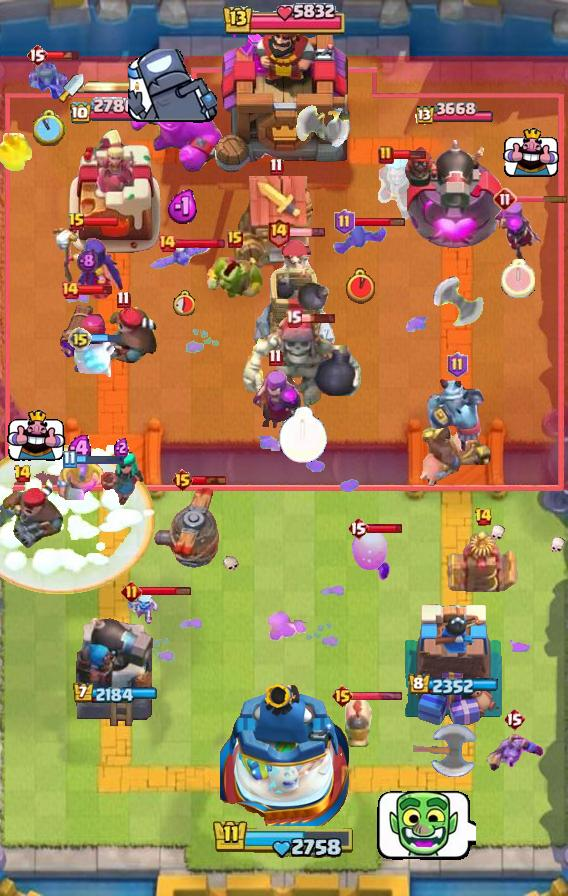axe: (413, 723, 479, 779), (427, 276, 485, 338), (295, 92, 351, 150)
bar: (74, 453, 126, 466), (175, 237, 226, 250), (139, 586, 192, 597), (353, 217, 406, 228), (351, 691, 403, 702), (515, 194, 568, 203), (300, 312, 337, 324), (192, 474, 228, 486), (77, 284, 113, 296), (84, 216, 120, 228), (392, 149, 427, 161), (46, 49, 81, 61), (367, 523, 404, 534), (289, 227, 326, 238), (90, 333, 122, 344)
bar-level: (266, 217, 291, 248), (68, 327, 92, 351), (493, 187, 517, 211), (331, 684, 354, 708), (171, 468, 194, 492), (447, 352, 468, 378), (334, 209, 355, 235), (503, 707, 525, 731), (347, 516, 369, 540), (26, 43, 48, 67), (121, 581, 142, 602), (60, 280, 80, 300), (157, 233, 177, 253), (474, 507, 493, 527), (13, 464, 32, 484), (68, 212, 86, 232), (285, 309, 302, 328), (378, 145, 394, 165), (227, 230, 243, 248), (62, 450, 77, 469), (268, 348, 283, 367), (116, 290, 131, 309), (269, 157, 284, 176)
bat-evolution: (150, 241, 216, 275), (332, 223, 388, 257)
cannoneer-tower: (400, 132, 507, 256), (71, 611, 157, 731)
clock: (278, 406, 328, 464), (501, 259, 535, 298), (33, 110, 66, 146), (346, 268, 375, 304), (172, 290, 195, 316)
dagger-duchess-tower: (64, 124, 164, 256)
dagger-duchess-tower-bar: (84, 80, 156, 94)
elite-barbarian: (57, 457, 106, 500)
elixir: (167, 189, 200, 225), (67, 435, 95, 462), (77, 248, 98, 274), (114, 436, 129, 459)
emote: (374, 787, 476, 864), (128, 49, 217, 126), (7, 410, 65, 462), (503, 128, 559, 178)
firecracker-evolution: (58, 288, 112, 376)
goblin: (28, 59, 70, 103)
goblin-brawler: (206, 252, 264, 306)
hunter: (0, 476, 66, 550), (86, 306, 160, 368)
ice-spirit: (74, 340, 118, 382)
ice-wizard: (364, 151, 426, 223)
king-tower: (211, 7, 357, 181), (220, 678, 349, 826)
king-tower-bar: (212, 818, 356, 860), (221, 0, 347, 40)
mega-minion: (427, 375, 487, 453)
minion: (483, 734, 545, 772)
mother-witch: (492, 197, 544, 261), (248, 368, 302, 428)
phoenix-egg: (350, 528, 390, 572)
queen-tower: (401, 599, 506, 731)
rascal-girl: (97, 451, 145, 505)
royal-hog: (343, 697, 375, 749)
skeleton: (126, 592, 160, 626)
tesla: (448, 527, 518, 595)
tower-bar: (69, 97, 159, 126), (408, 674, 499, 697), (413, 102, 493, 127), (72, 683, 157, 705)
witch: (49, 226, 125, 300)
